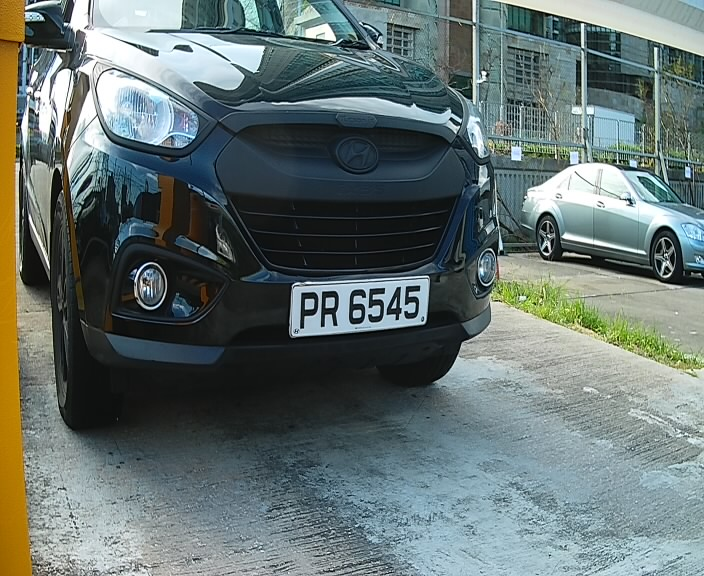Car: (6, 2, 511, 454)
License Plate: (281, 270, 436, 343)
